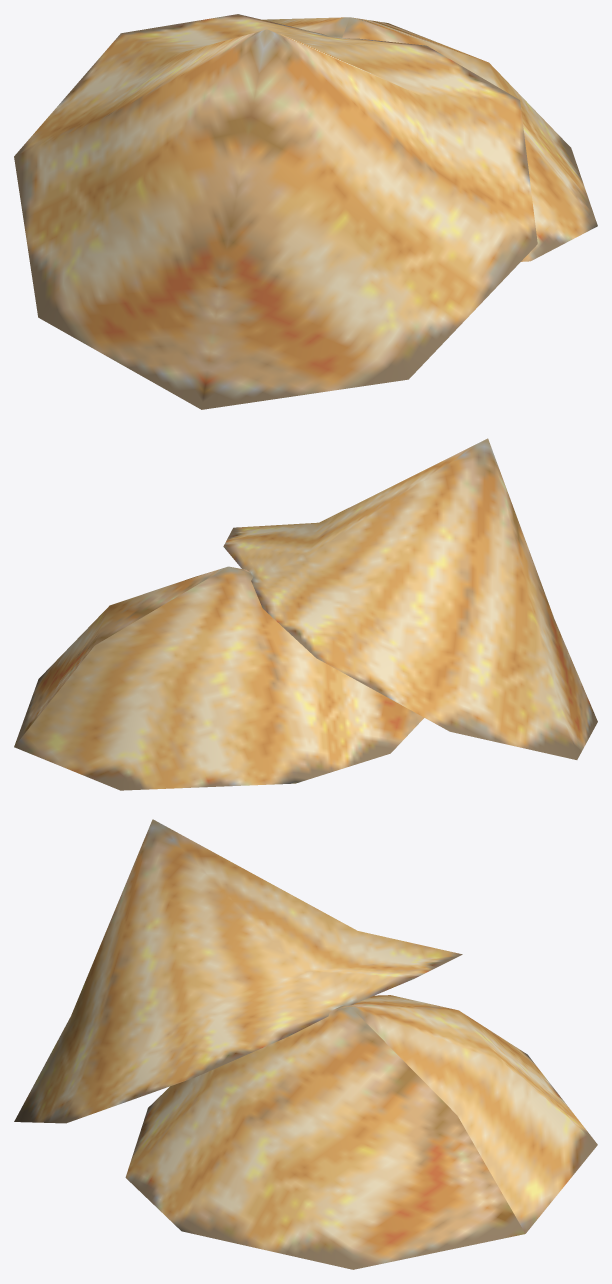
The model's file is 5010_Item_hailuo_09.FBX.
The picture shows the model from 3 angles, top to bottom: view 1: azimuth 30°, elevation 25°; view 2: azimuth 150°, elevation 25°; view 3: azimuth 270°, elevation 25°; orthographic projection. The views are drawn at different scales.
Parts seen in each view (by area): view 1: 5010_Item_hailuo_09; view 2: 5010_Item_hailuo_09; view 3: 5010_Item_hailuo_09.
Part boxes in pixels (x1,y1,x2,y2): 5010_Item_hailuo_09: [14, 14, 597, 409]; 5010_Item_hailuo_09: [14, 438, 597, 790]; 5010_Item_hailuo_09: [14, 819, 597, 1269].
Size of the model in its own units: 103 by 56.08 by 99.93.
